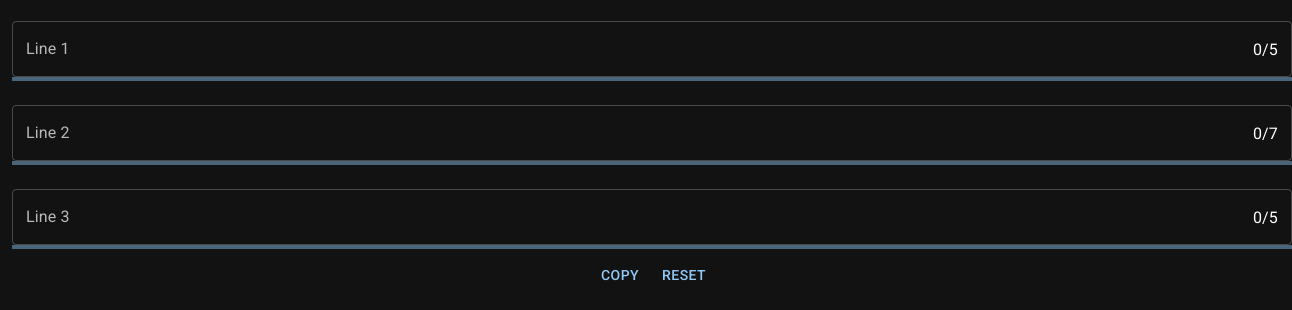
Test case: Can reset lines
Type "Line 1" into the field with test id "syllableTextInput" showing "Line 1" at (628, 49), box [12, 21, 1245, 77]
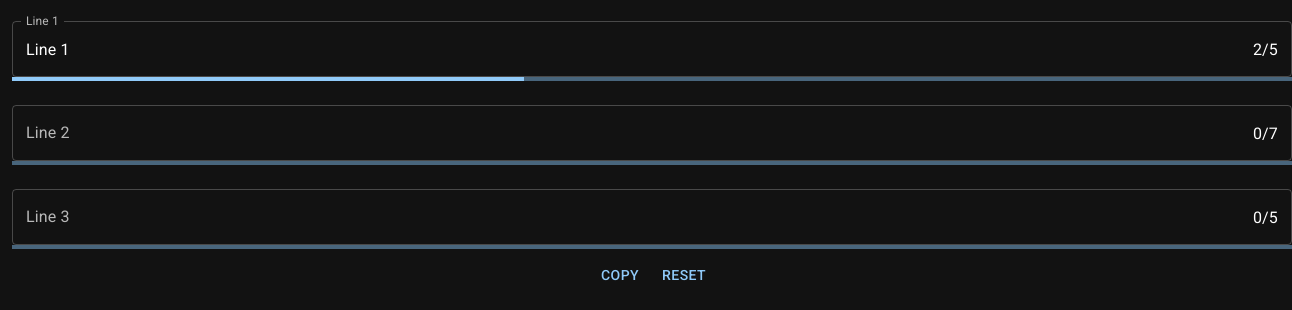
Type "Line 2" into the field with test id "syllableTextInput" showing "Line 2" at (628, 133), box [12, 105, 1245, 161]
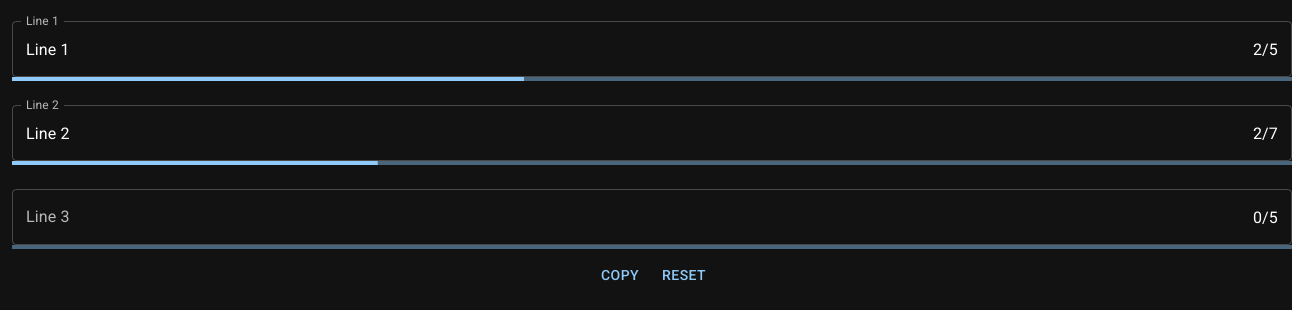
Type "Line 3" into the field with test id "syllableTextInput" showing "Line 3" at (628, 217), box [12, 189, 1245, 245]
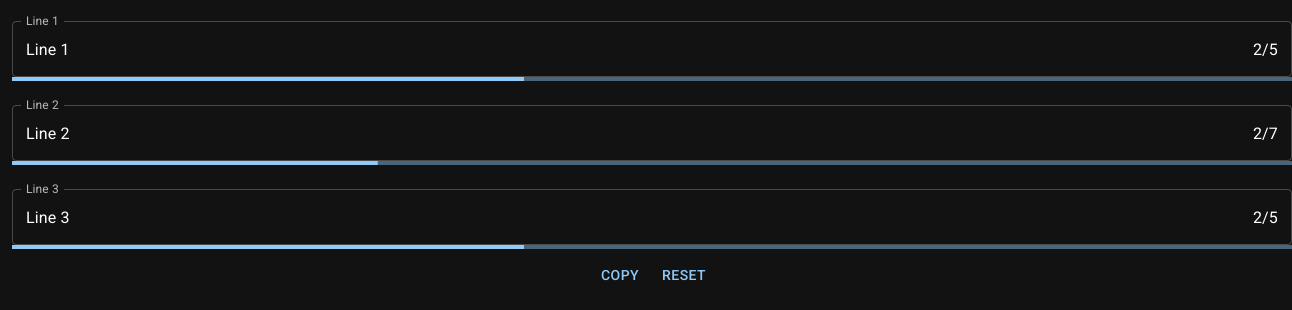
Click the button with test id "resetButton" at (684, 275), box [652, 257, 716, 294]
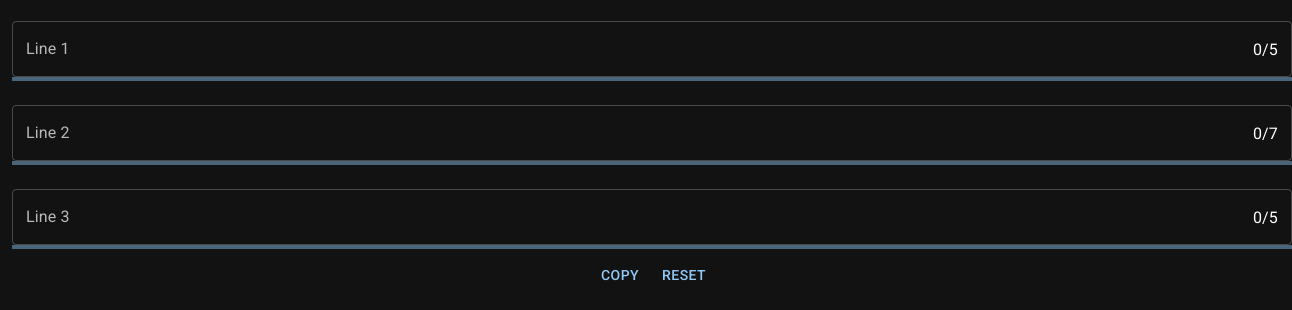
Now the field with test id "syllableTextInput" is empty, box [12, 21, 1245, 77]
